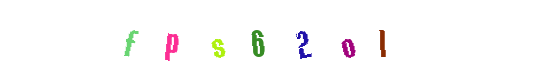2: (227, 0, 307, 80)
6: (217, 0, 297, 80)
F: (134, 0, 214, 80)
L: (342, 0, 422, 80)
O: (263, 0, 343, 80)
P: (178, 0, 258, 80)
S: (208, 0, 288, 80)
